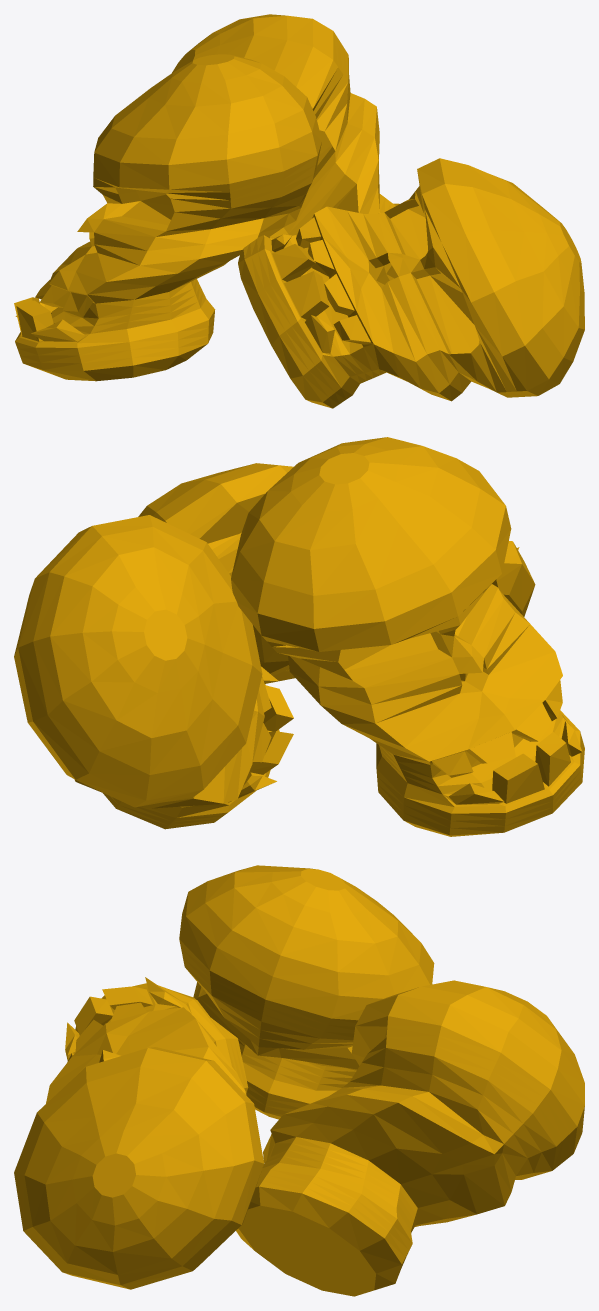
Rendered from pile_of_skulls.FBX.
3 renders of one model, top to bottom at view 1: azimuth 30°, elevation 25°; view 2: azimuth 150°, elevation 25°; view 3: azimuth 270°, elevation 25°, orthographic. The views are drawn at different scales.
Visible parts, largest first — view 1: head002, head003, head001; view 2: head003, head001, head002; view 3: head001, head002, head003.
Boxes of the visible parts, box(x1,y1,x2,y2) form: head002: box(238, 158, 584, 408); head003: box(14, 54, 321, 381); head001: box(172, 14, 399, 238); head003: box(231, 437, 584, 836); head001: box(14, 515, 293, 829); head002: box(138, 463, 535, 682); head001: box(236, 980, 584, 1296); head002: box(14, 977, 263, 1289); head003: box(179, 865, 434, 1119).
Bounding box in the file's own units: 19.09 × 13.61 × 19.98.
